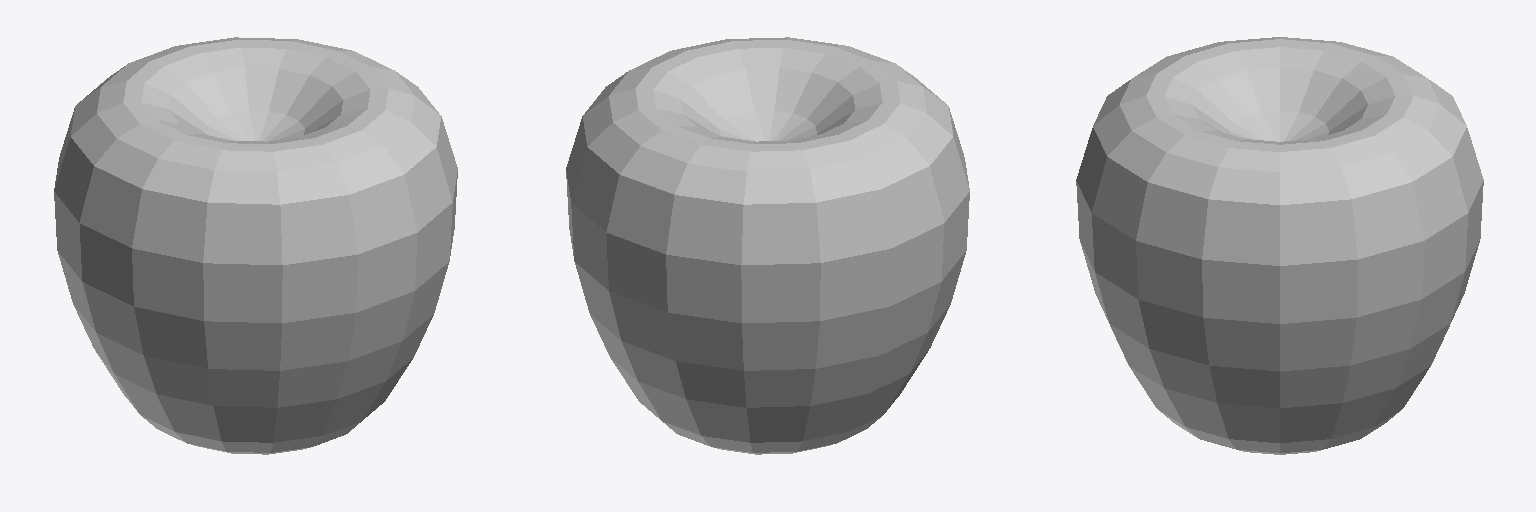
Rendered from Manzana-1_1.obj.
3 renders of one model, left to right at view 1: azimuth 30°, elevation 25°; view 2: azimuth 150°, elevation 25°; view 3: azimuth 270°, elevation 25°, orthographic.
Parts seen in each view (by area): view 1: Manzana-1_1_Sphere.005; view 2: Manzana-1_1_Sphere.005; view 3: Manzana-1_1_Sphere.005.
Boxes of the visible parts, <box> form: Manzana-1_1_Sphere.005: <box>54,37,457,454</box>; Manzana-1_1_Sphere.005: <box>566,37,969,454</box>; Manzana-1_1_Sphere.005: <box>1076,37,1483,454</box>.
Size of the model in its own units: 3.67 by 3.18 by 3.67.